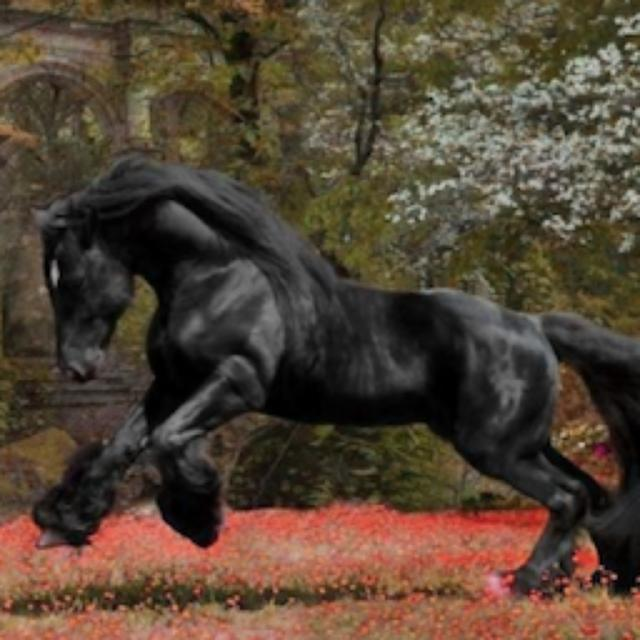Horse: (20, 145, 638, 603)
